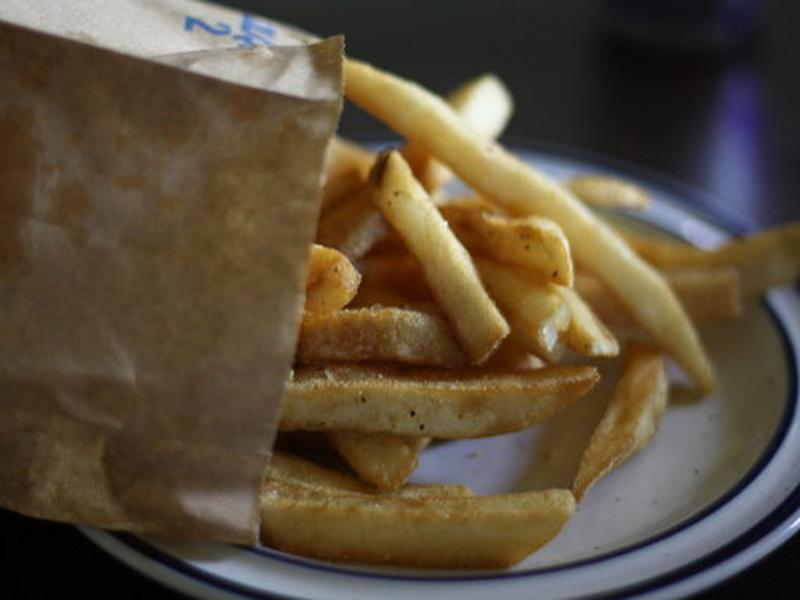french_fries: (201, 1, 775, 585)
